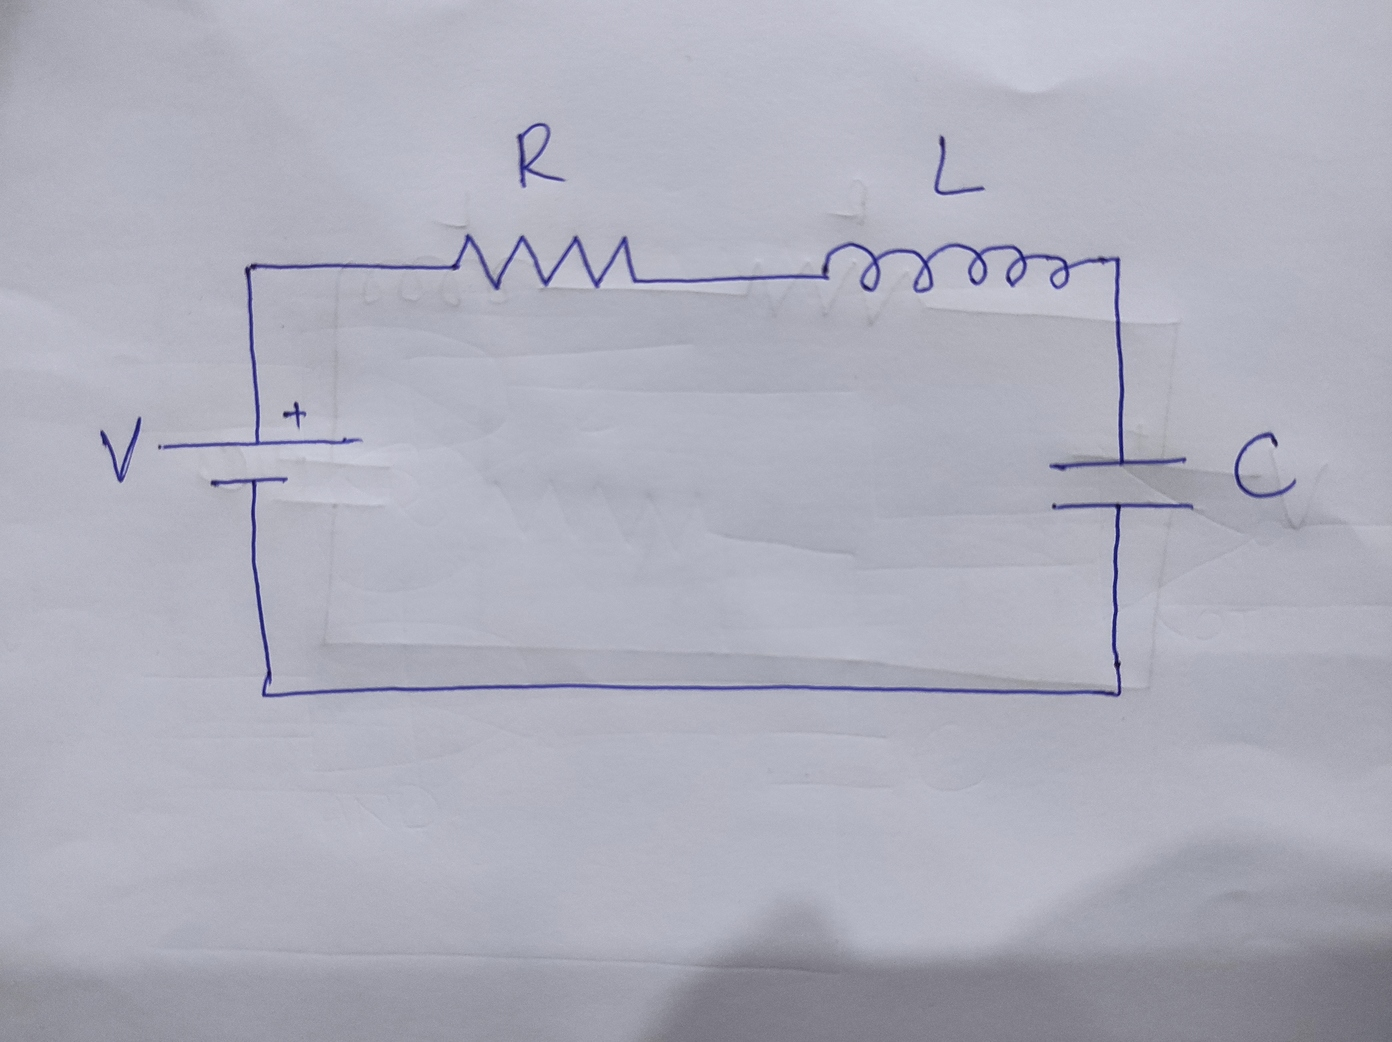capacitor.unpolarized: (1037, 447, 1202, 521)
inductor: (815, 238, 1089, 294)
junction: (256, 676, 283, 708), (1100, 679, 1133, 704), (1104, 248, 1127, 275), (239, 256, 260, 278)
resistor: (440, 219, 654, 302)
text: (512, 116, 568, 190), (927, 131, 989, 197), (1234, 431, 1295, 499), (97, 412, 144, 484)
voltage.dc: (153, 397, 366, 493)
